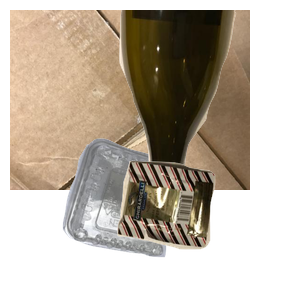cardboard: (10, 10, 250, 190)
glass: (117, 10, 300, 190)
plastic: (60, 136, 237, 300)
trash: (115, 158, 300, 300)
